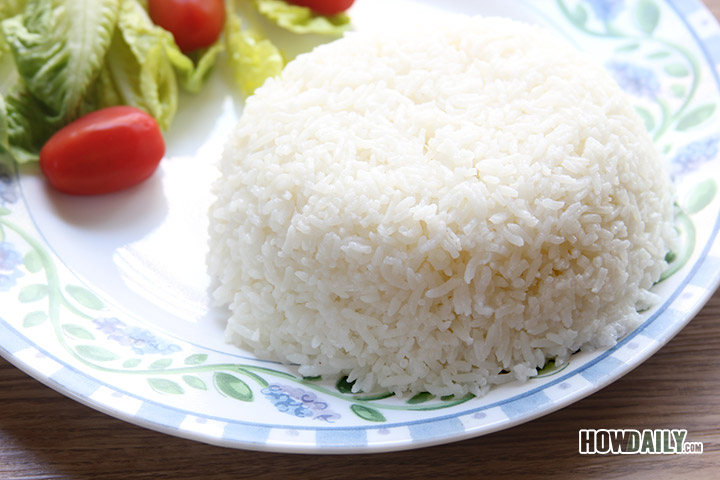rice: (205, 17, 668, 392)
